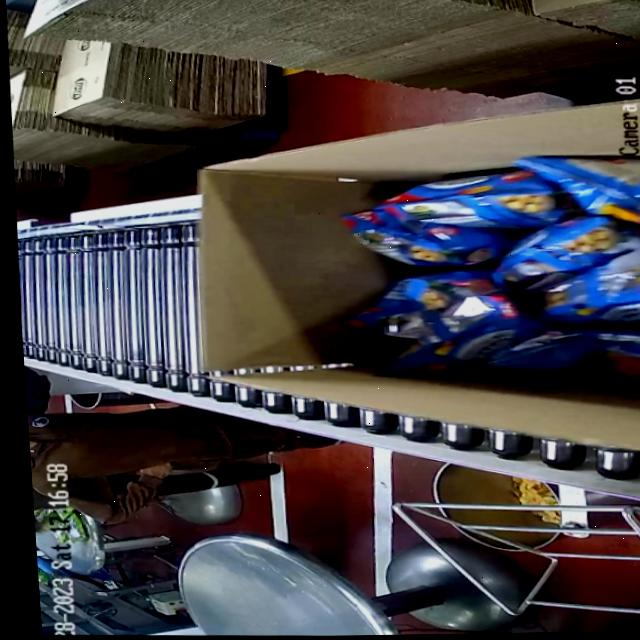PAPRIKA: (332, 174, 640, 392)
